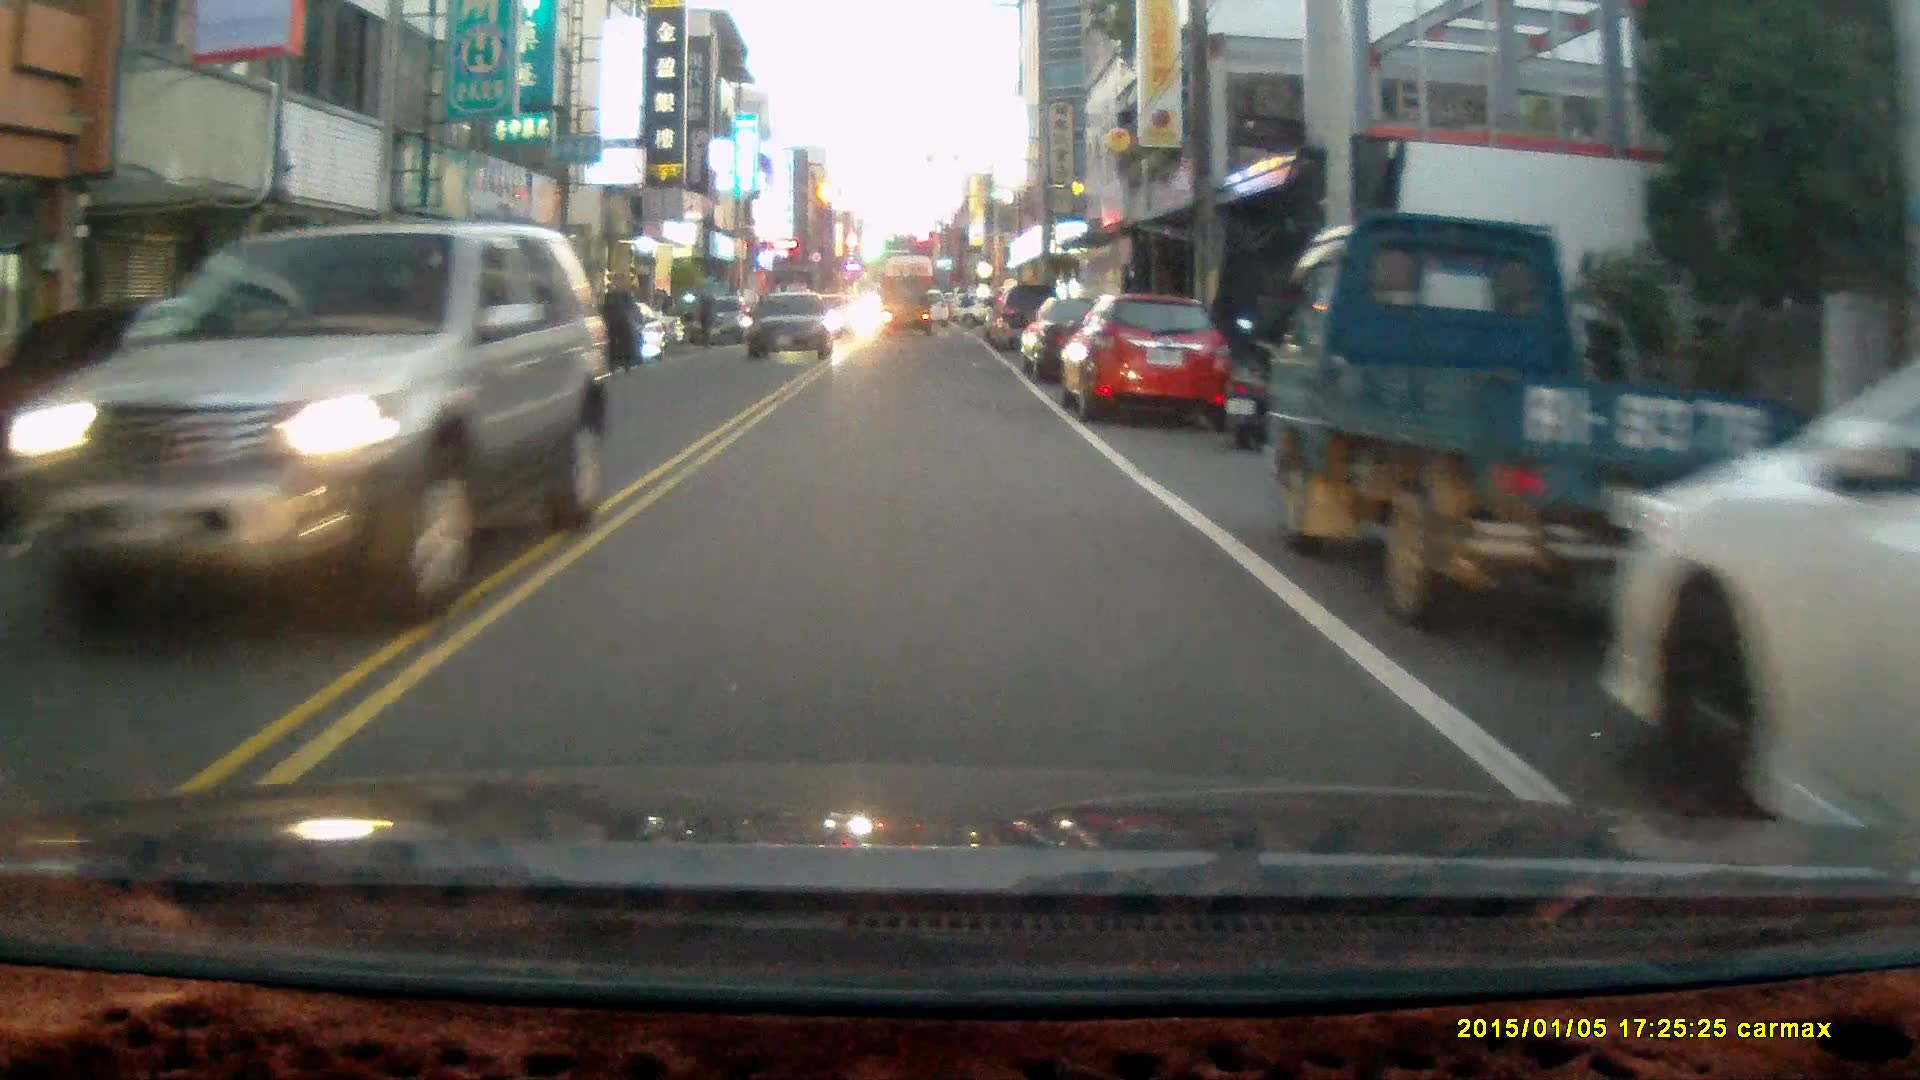pedestrian: (600, 270, 637, 373), (693, 284, 716, 348)
vehicle: (15, 222, 614, 626), (1258, 211, 1796, 628), (1595, 345, 1920, 881), (1063, 295, 1230, 427), (1014, 288, 1158, 389), (750, 288, 832, 363), (877, 280, 934, 340)
